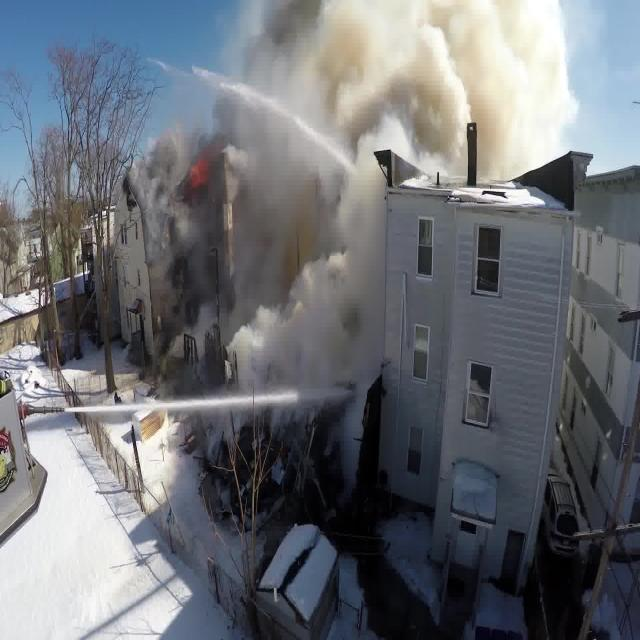Smoke: (199, 0, 561, 428)
